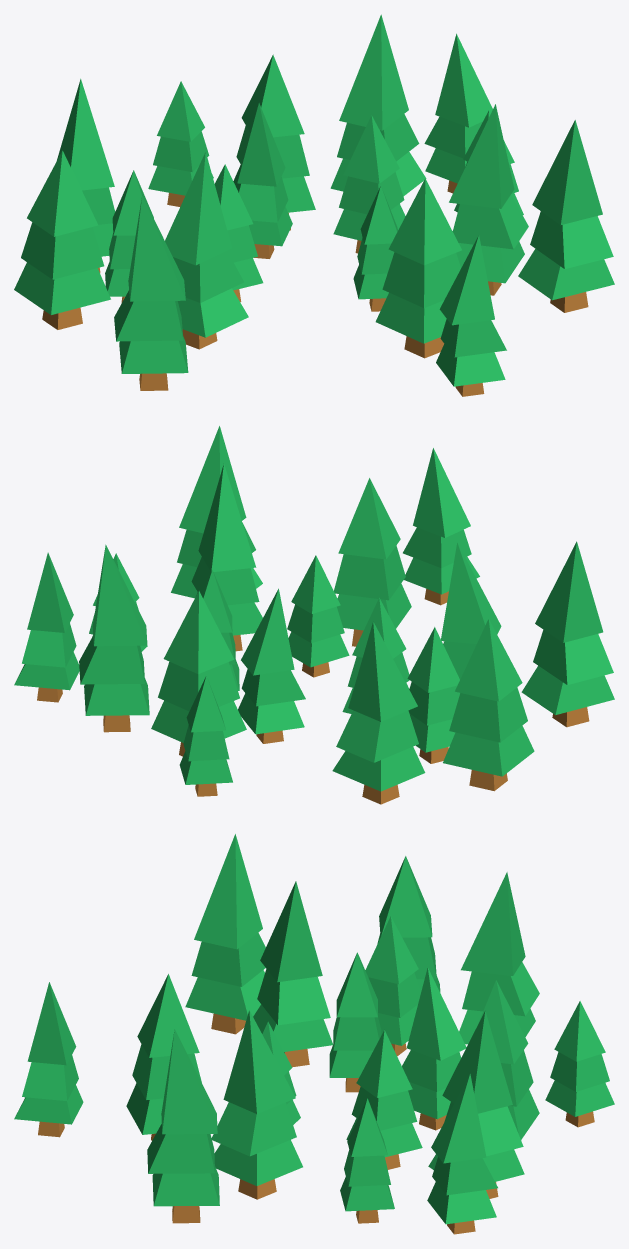
The model's file is nature_taigaRiverDelta.fbx.
3 renders of one model, top to bottom at view 1: azimuth 30°, elevation 25°; view 2: azimuth 150°, elevation 25°; view 3: azimuth 270°, elevation 25°, orthographic. The views are drawn at different scales.
Parts seen in each view (by area): view 1: Taiga; view 2: Taiga; view 3: Taiga.
Boxes of the visible parts, <box> form: Taiga: <box>14,14,614,396</box>; Taiga: <box>14,426,614,804</box>; Taiga: <box>14,834,614,1234</box>.
Size of the model in its own units: 179 by 65 by 187.
